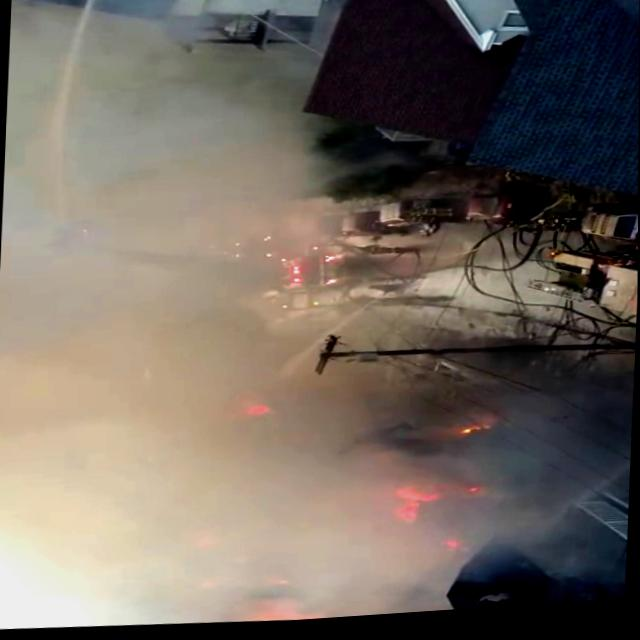smoke: (0, 46, 353, 602)
